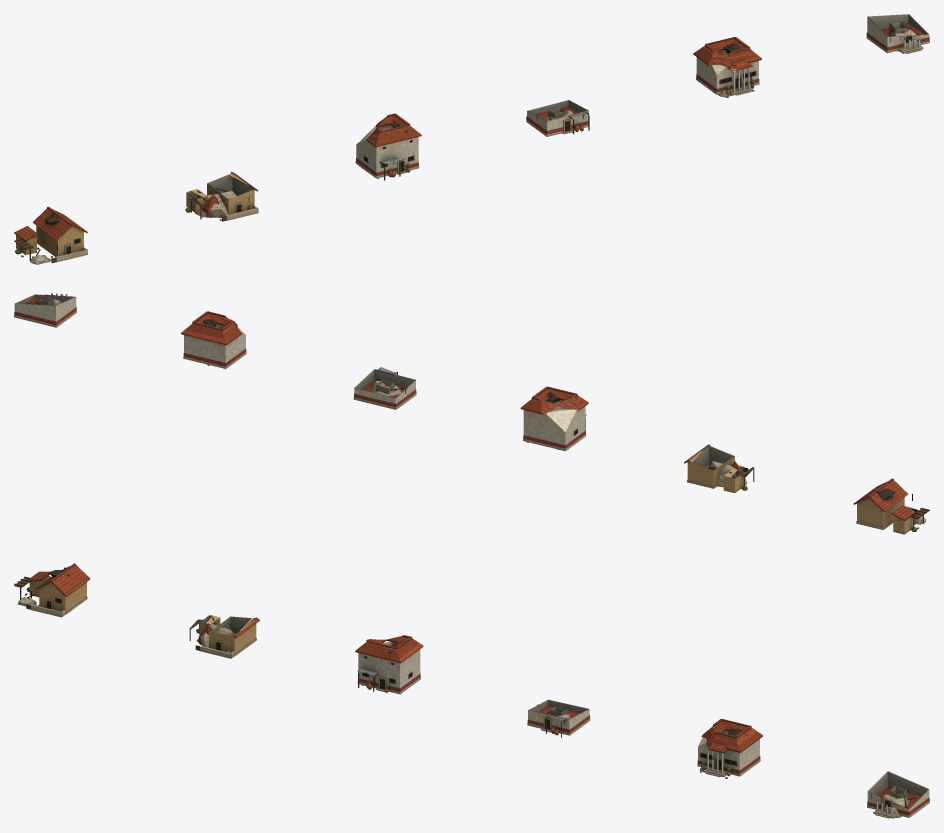
Rendered from classical-europe-houses-damage.glb.
The picture shows the model from 3 angles, top to bottom: view 1: azimuth 30°, elevation 25°; view 2: azimuth 150°, elevation 25°; view 3: azimuth 330°, elevation 25°; orthographic projection.
Parts seen in each view (by area): view 1: LOD0.002, LOD0.004, LOD0, LOD0.001, LOD0.005, LOD0.003; view 2: LOD0.002, LOD0.004, LOD0, LOD0.001, LOD0.003, LOD0.005; view 3: LOD0.002, LOD0.004, LOD0, LOD0.001, LOD0.005, LOD0.003.
Boxes of the visible parts, x1=… form: LOD0.002: x1=355, y1=113, x2=421, y2=180; LOD0.004: x1=693, y1=37, x2=761, y2=97; LOD0: x1=14, y1=206, x2=87, y2=264; LOD0.001: x1=185, y1=172, x2=258, y2=221; LOD0.005: x1=866, y1=14, x2=929, y2=53; LOD0.003: x1=526, y1=100, x2=589, y2=136; LOD0.002: x1=520, y1=386, x2=588, y2=451; LOD0.004: x1=181, y1=311, x2=246, y2=368; LOD0: x1=853, y1=478, x2=929, y2=534; LOD0.001: x1=684, y1=444, x2=754, y2=493; LOD0.003: x1=353, y1=367, x2=416, y2=409; LOD0.005: x1=14, y1=293, x2=76, y2=327; LOD0.002: x1=355, y1=635, x2=423, y2=694; LOD0.004: x1=697, y1=719, x2=762, y2=778; LOD0: x1=14, y1=563, x2=90, y2=617; LOD0.001: x1=189, y1=615, x2=259, y2=658; LOD0.005: x1=867, y1=771, x2=929, y2=818; LOD0.003: x1=527, y1=699, x2=590, y2=737.
Size of what is drawn, in the model's own units: 15.89 by 0.7736 by 0.835.
Materials: 2 (2 with a texture image).
